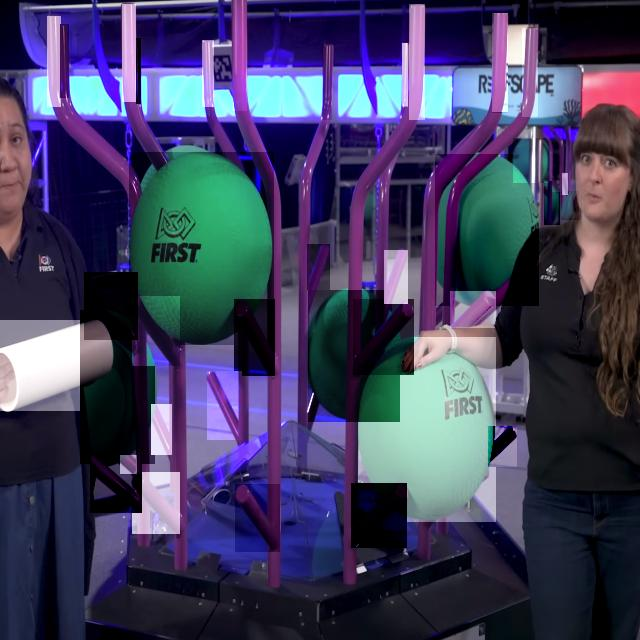Algae: (129, 152, 274, 345), (358, 337, 496, 522), (435, 154, 539, 306), (308, 290, 400, 422), (80, 310, 155, 464), (513, 138, 549, 183), (544, 181, 560, 225), (561, 191, 579, 220)
Coral: (0, 320, 113, 411)
Reef: (353, 299, 414, 375), (84, 272, 138, 340), (351, 483, 407, 548), (132, 296, 180, 366), (234, 299, 275, 376), (90, 454, 142, 513), (235, 484, 280, 552), (132, 472, 180, 534), (207, 371, 242, 440), (409, 4, 425, 120), (450, 291, 496, 328), (492, 13, 508, 114), (233, 0, 247, 111), (522, 28, 538, 117), (122, 4, 136, 102), (384, 250, 408, 304), (47, 16, 61, 107), (488, 426, 517, 467), (151, 404, 172, 455), (307, 244, 330, 290), (202, 40, 214, 107), (322, 44, 332, 120), (60, 24, 69, 98), (402, 44, 408, 108), (120, 456, 137, 476), (136, 38, 141, 104), (562, 173, 568, 195), (552, 178, 560, 192), (544, 186, 548, 195)
